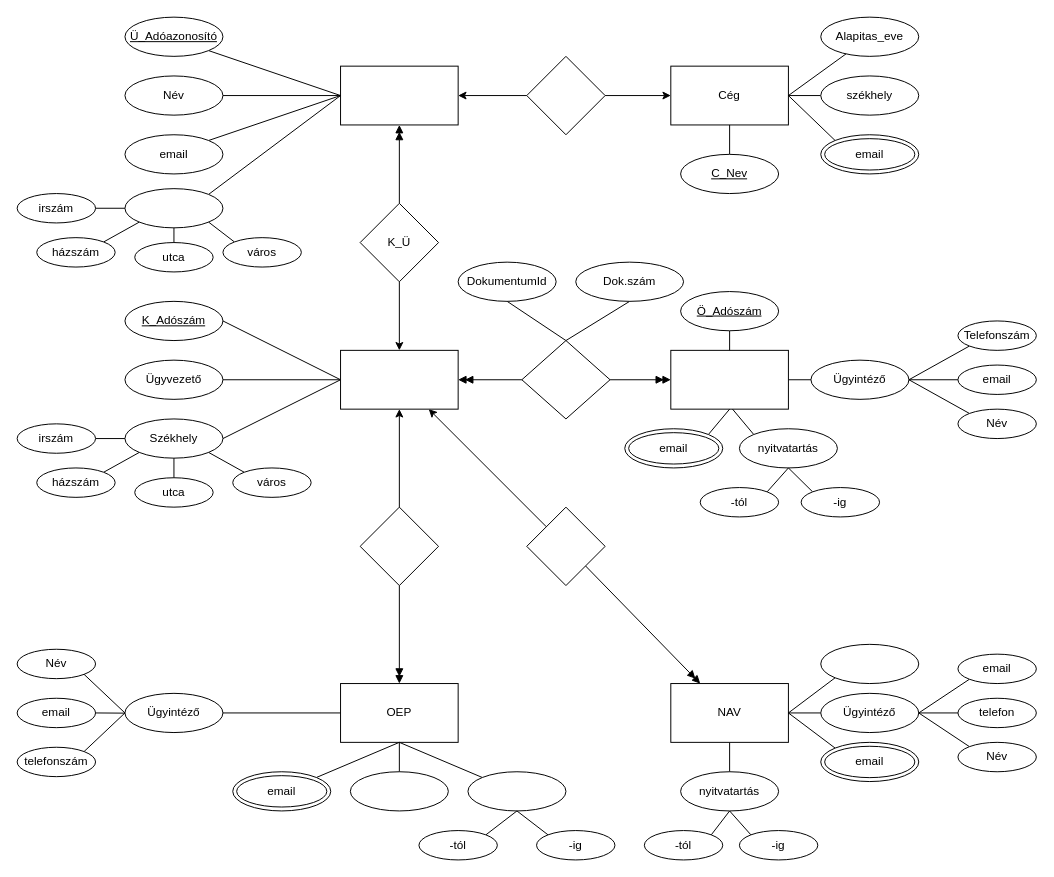
This 1054x877 diagram has some shape labels left out. Each missing label, with the box of its shape:
K_N: (526, 506, 605, 586)
K_O: (359, 506, 439, 586)
Könyv_Anyag: (521, 340, 610, 419)
Könyvelőiroda: (340, 349, 458, 409)
lakcim: (124, 188, 223, 228)
N_Adószám: (820, 643, 919, 684)
nyitvatartas: (467, 771, 566, 811)
O_Adószám: (349, 771, 448, 811)
Önkormányzat: (670, 349, 788, 409)
Ü_C: (526, 55, 605, 135)
Ügyfelek: (340, 65, 458, 125)
